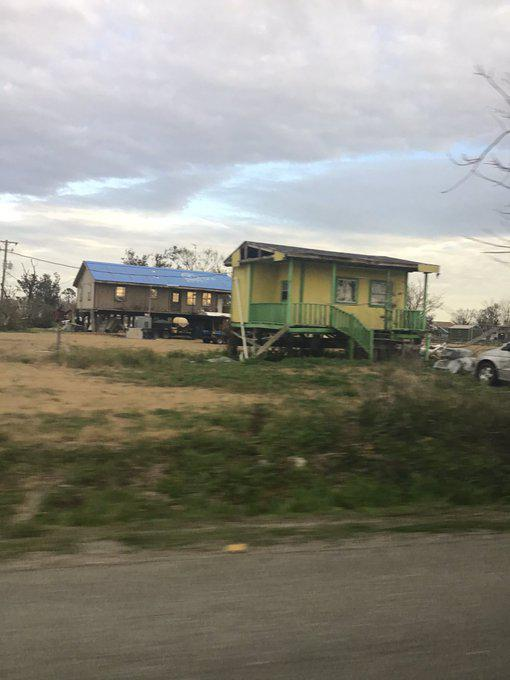major: (219, 231, 444, 363)
minor: (66, 247, 235, 344)
